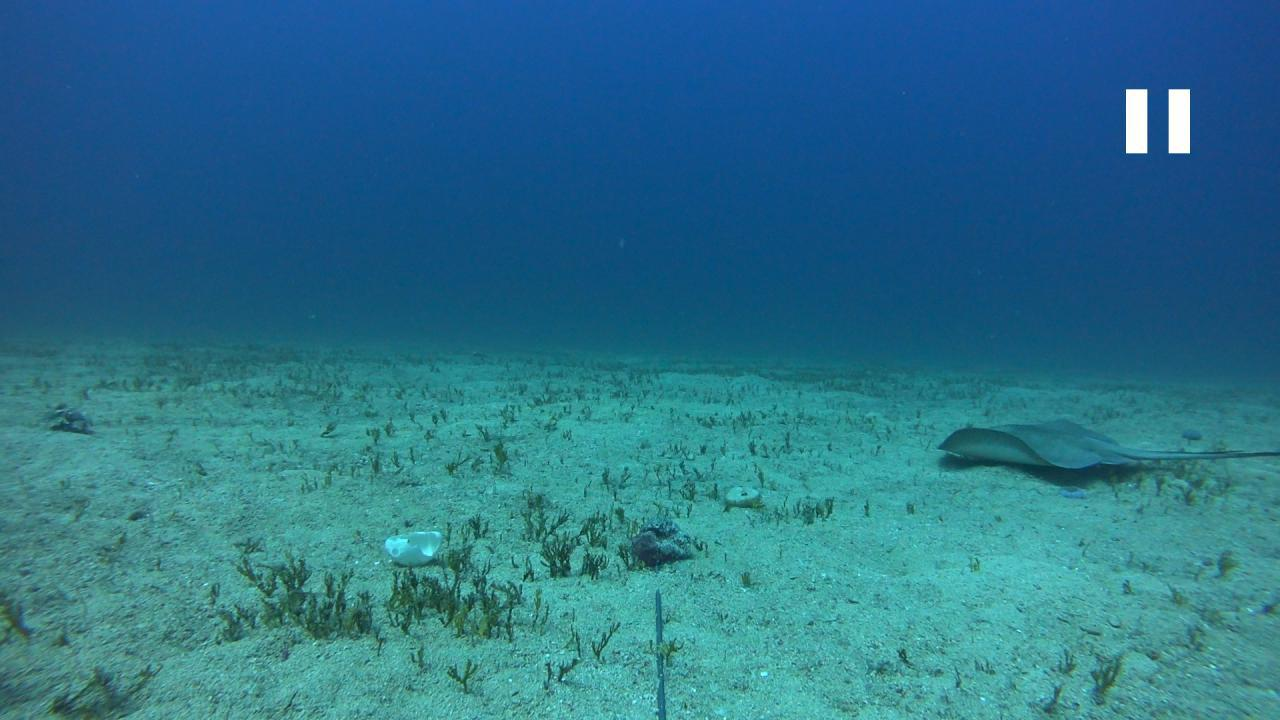dasyatis: (936, 417, 1280, 469)
